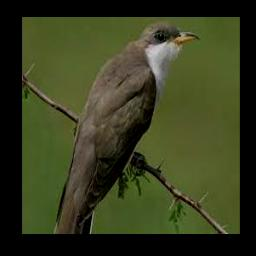Cuckoo: (53, 22, 199, 234)
